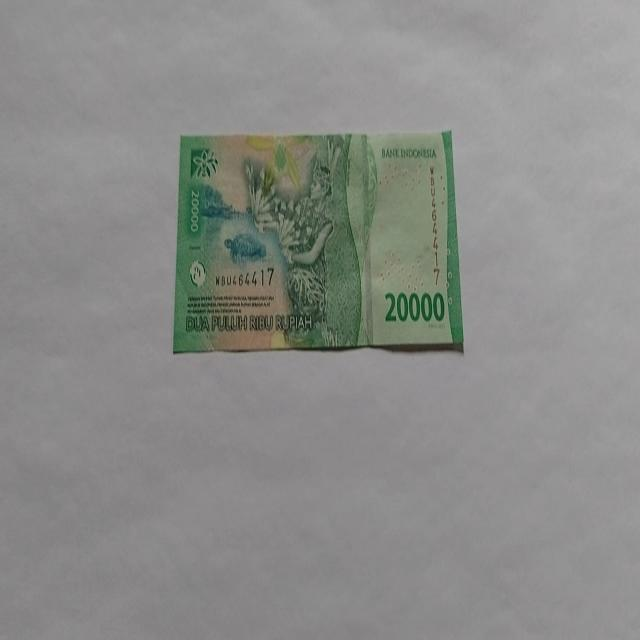dua puluh ribu rupiah: (172, 128, 464, 354), (242, 133, 376, 350)
